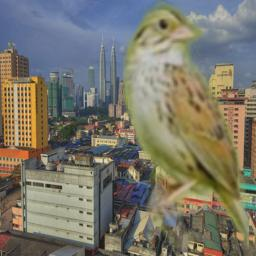Sparrow: (123, 0, 249, 256)
